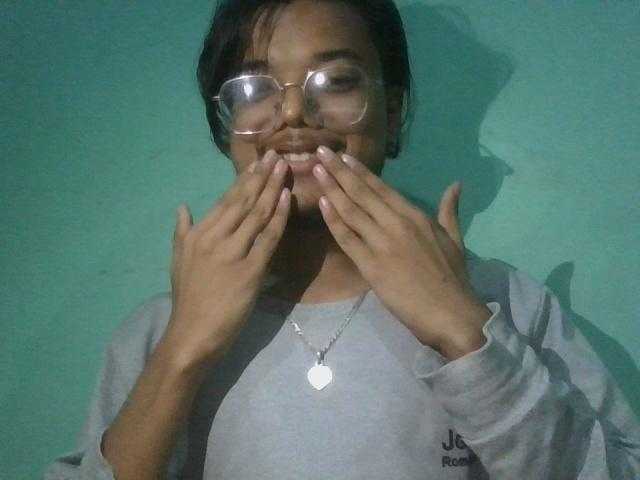Thank You: (100, 106, 533, 424)
